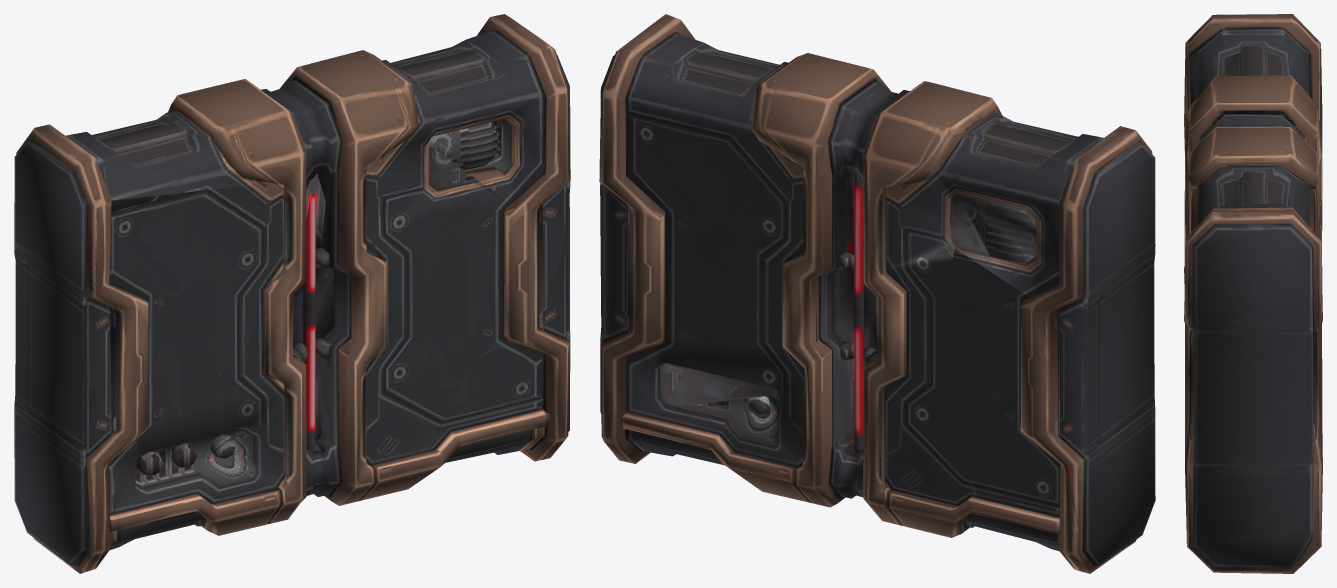
3 views of the same model, side by side, from view 1: azimuth 30°, elevation 25°; view 2: azimuth 150°, elevation 25°; view 3: azimuth 270°, elevation 25° (orthographic). The views are drawn at different scales.
Visible parts, largest first — view 1: Mesh_0; view 2: Mesh_0; view 3: Mesh_0.
Part boxes in pixels (x1,y1,x2,y2): Mesh_0: (14, 14, 570, 573); Mesh_0: (599, 14, 1155, 573); Mesh_0: (1184, 14, 1322, 573).
Bounding box in the file's own units: 100 × 81.05 × 28.32.
Materials: 1 (1 with a texture image).
